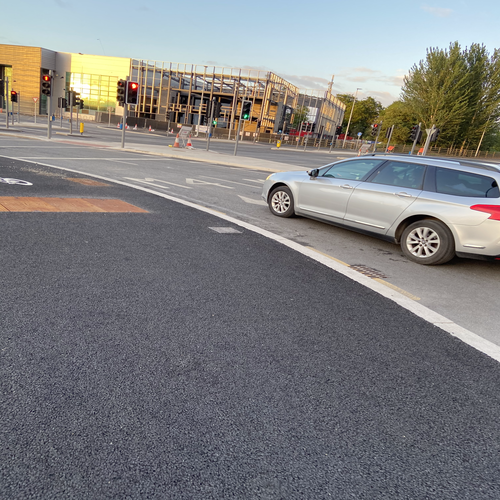Car: (255, 150, 500, 263)
Traffic Light: (123, 77, 145, 114)
